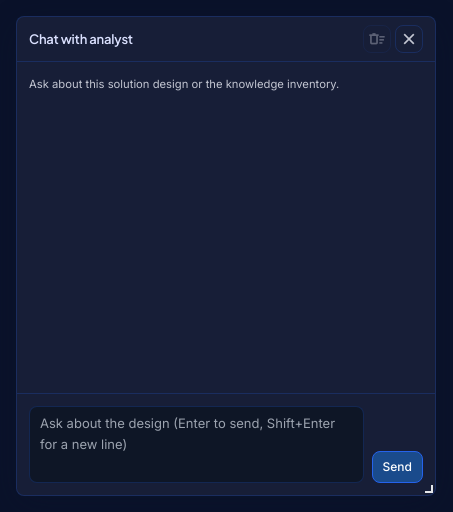
user messages stay plain text
This screenshot has width=453, height=512.
Replace the text in the text box named "Chat message" with "what is **this** api". click: (196, 444)
box: [29,406,364,483]
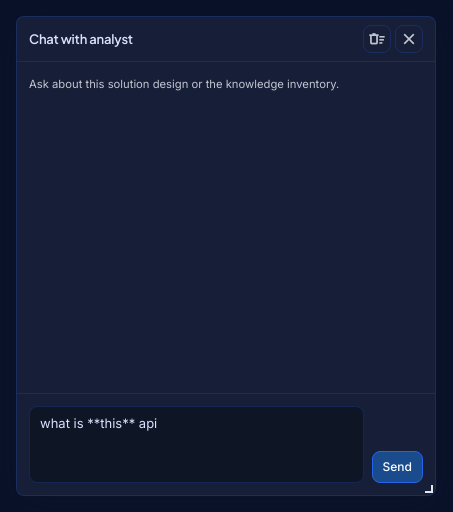
Click the button "Send". click: (397, 467)
box: [372,451,423,483]
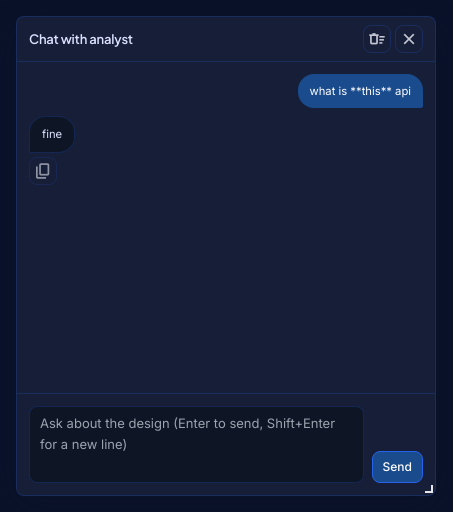
Expected: the element with class "chat-md" is shown, [29,116,75,153]
Expected: the text "what is **this** api" is shown, [298,74,423,108]
